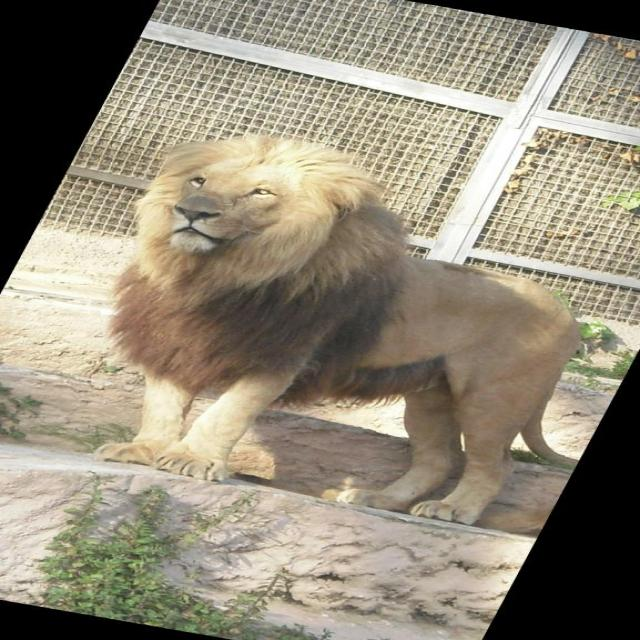Lion: (0, 109, 639, 539)
